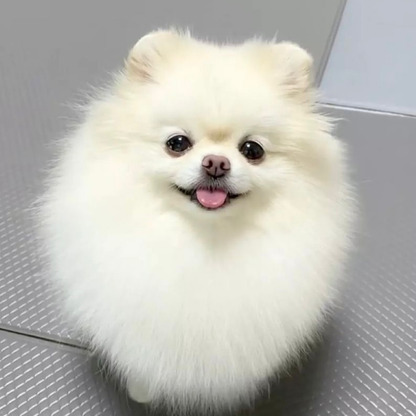Pomeranian: (53, 27, 372, 404)
